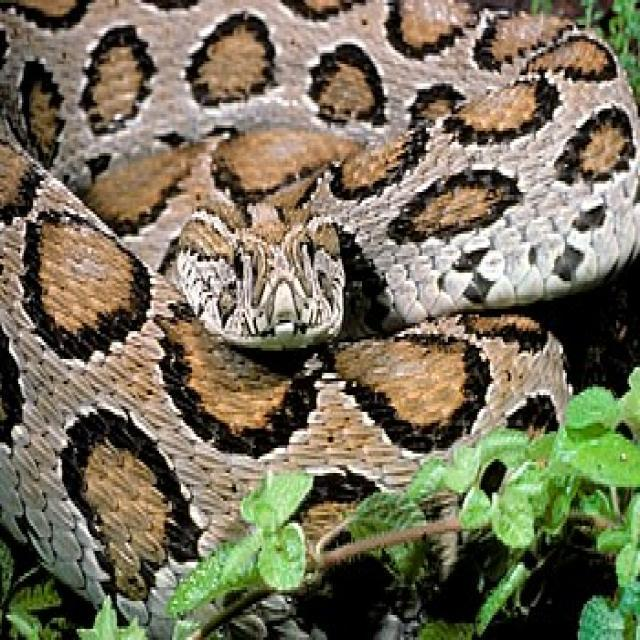Snake: (0, 0, 638, 634)
